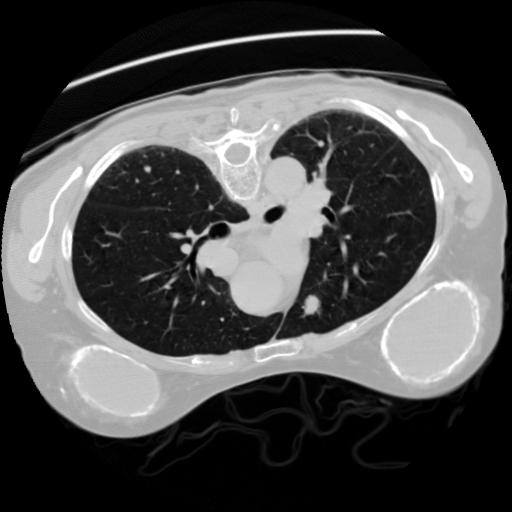nodule: (296, 288, 326, 318)
